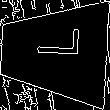L_W: (28, 36, 81, 69)
